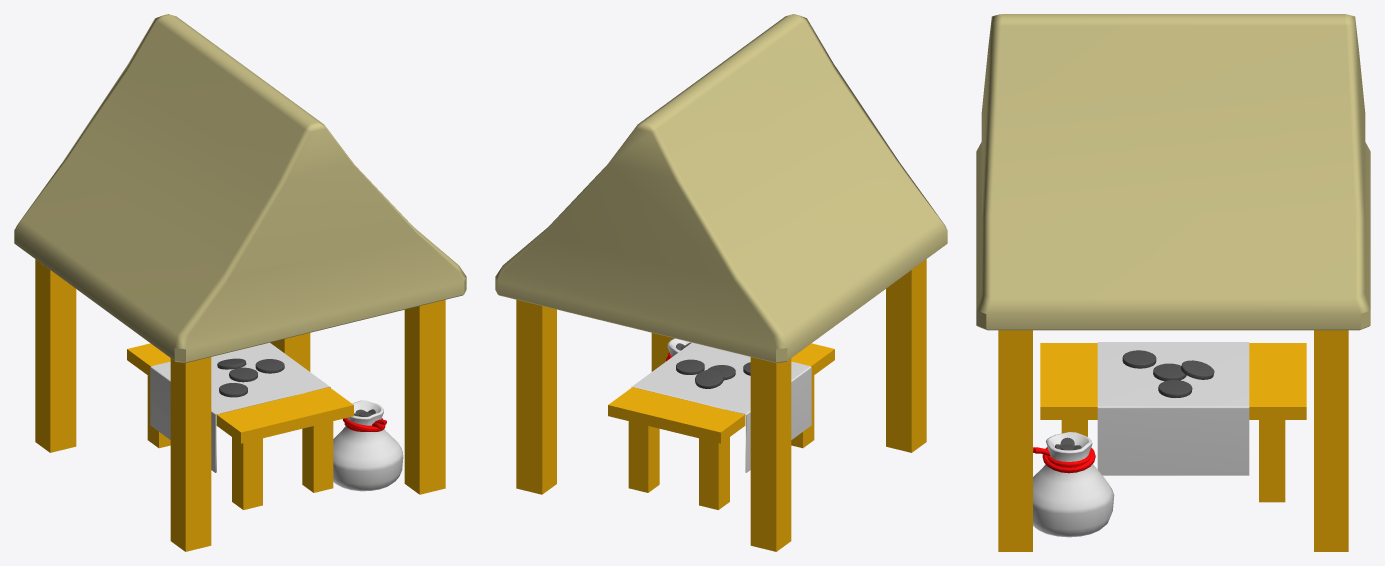
Rendered from Merchant_Tent.fbx.
The picture shows the model from 3 angles, left to right: view 1: azimuth 30°, elevation 25°; view 2: azimuth 150°, elevation 25°; view 3: azimuth 270°, elevation 25°; orthographic projection. The views are drawn at different scales.
Parts seen in each view (by area): view 1: pCube28, pCube33, pCube32, pCube30, pCube38, pCube29, pCylinder4, pCube35, pCube34, pCube31; view 2: pCube28, pCube30, pCube31, pCube33, pCube38, pCube29, pCube36, pCube37, pCube32; view 3: pCube28, pCube38, pCube29, pCube32, pCube31, pCylinder4, pCube36, pCylinder17, pCylinder16, pCylinder15, pCylinder14.
Part boxes in pixels (x1,y1,x2,y2): pCube28: (14,14,466,362); pCube33: (170,357,211,551); pCube32: (404,300,445,494); pCube30: (35,259,76,452); pCube38: (150,342,330,472); pCube29: (127,343,353,443); pCylinder4: (333,400,403,491); pCube35: (302,421,333,492); pCube34: (232,437,262,509); pCube31: (270,333,310,371); pCube28: (495,14,947,362); pCube30: (750,357,791,551); pCube31: (516,299,556,494); pCube33: (886,259,926,452); pCube38: (631,342,811,472); pCube29: (608,343,834,443); pCube36: (628,421,659,492); pCube37: (699,437,729,509); pCube32: (651,333,673,371); pCube28: (976,14,1370,330); pCube38: (1097,342,1249,475); pCube29: (1040,343,1306,419); pCube32: (998,330,1032,551); pCube31: (1314,330,1348,551); pCylinder4: (1033,432,1114,537); pCube36: (1259,420,1285,502); pCylinder17: (1122,350,1156,368); pCylinder16: (1158,380,1192,397); pCylinder15: (1181,360,1214,379); pCylinder14: (1153,363,1186,381).
Size of the model in its own units: 99.7 by 129 by 100.
